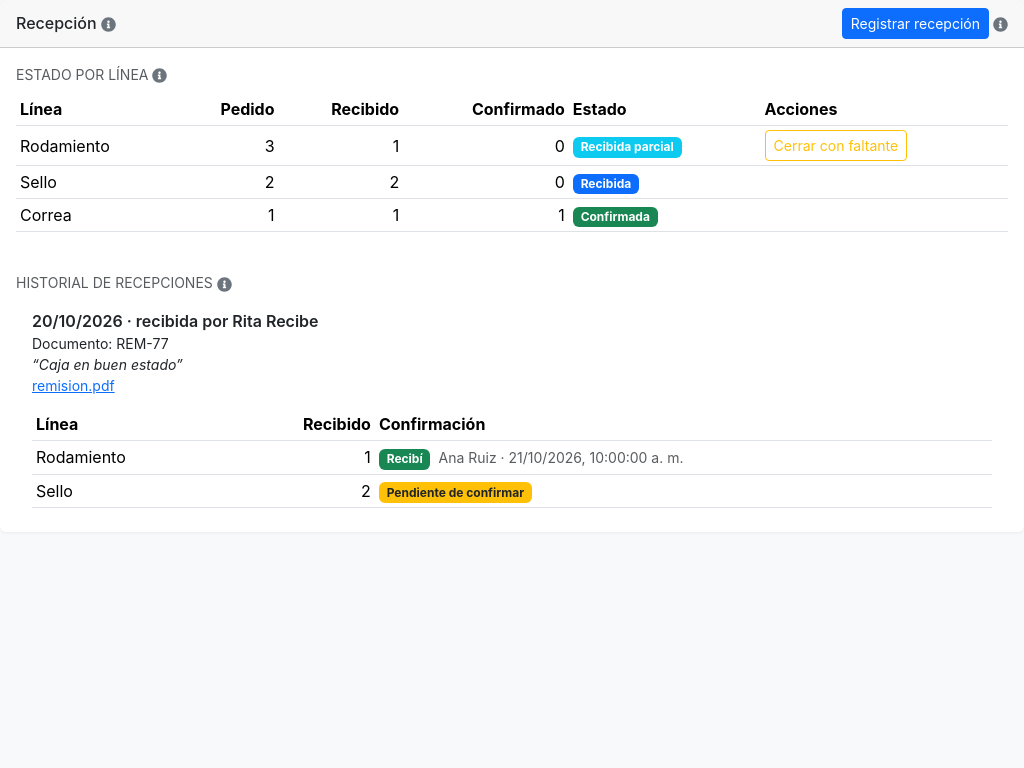
RegistrarRecepcionModal (through the panel) › shows the server answer CANTIDAD_EXCEDE in Spanish
Click the button "Registrar recepción" at (915, 24), box [842,8,989,39]
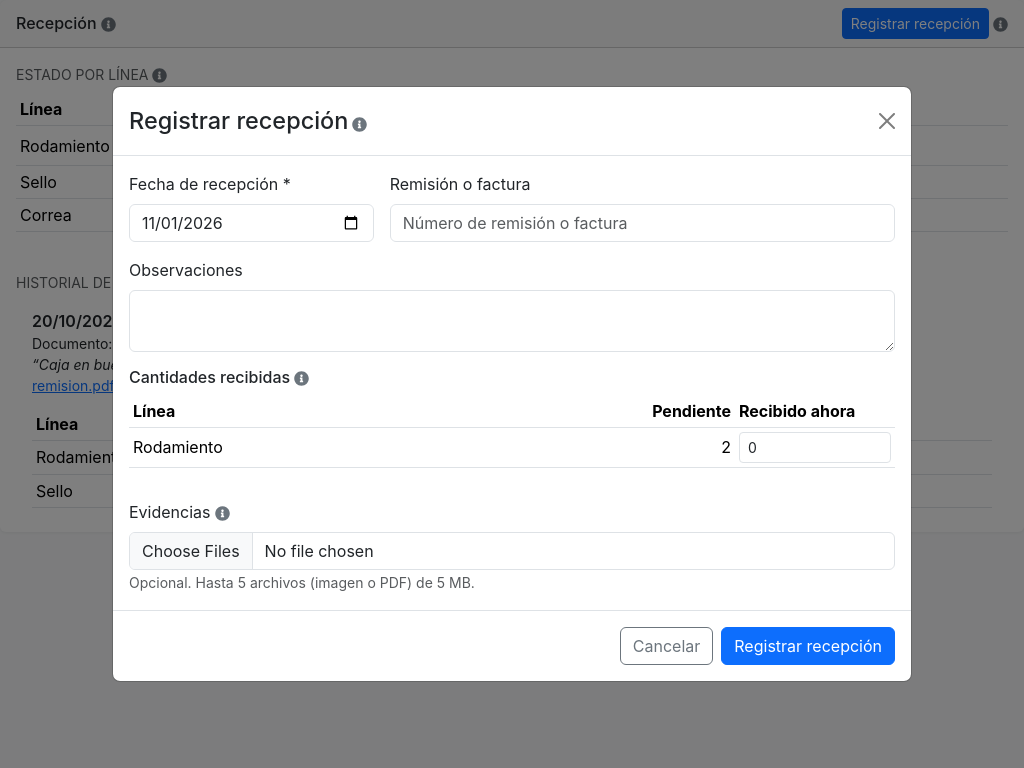
Replace the text in the number field named "Cantidad recibida de Rodamiento" with "1" at (815, 447), box [739,432,891,463]
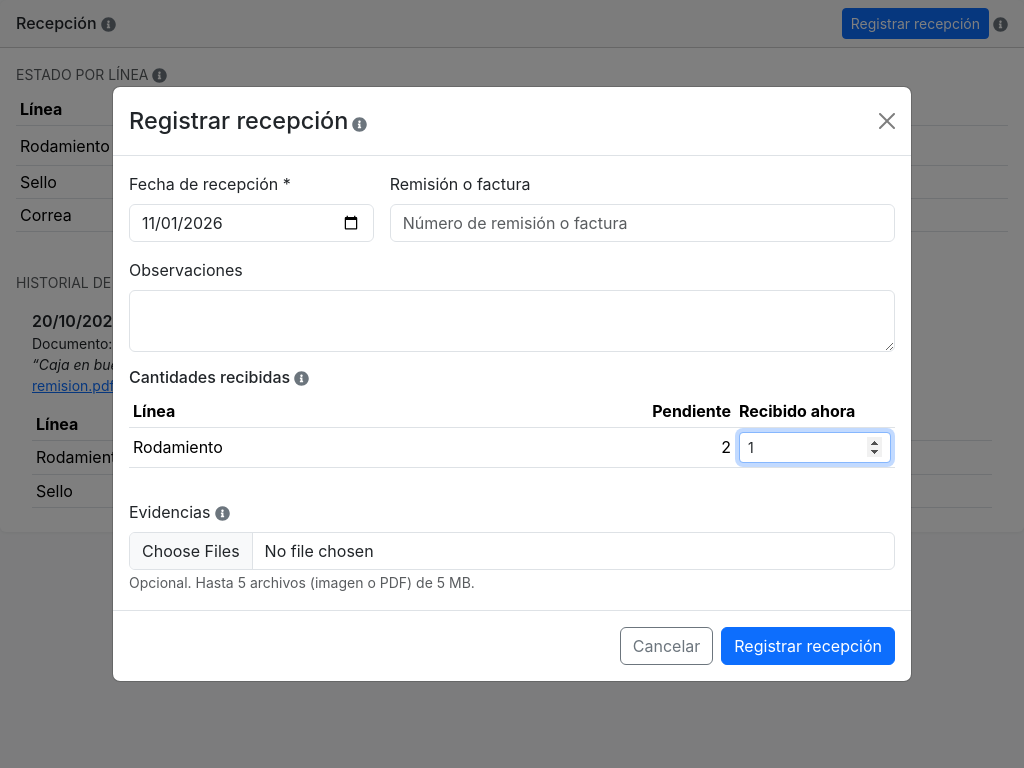
Click the button "Registrar recepción" at (808, 646), box [721,627,895,665]
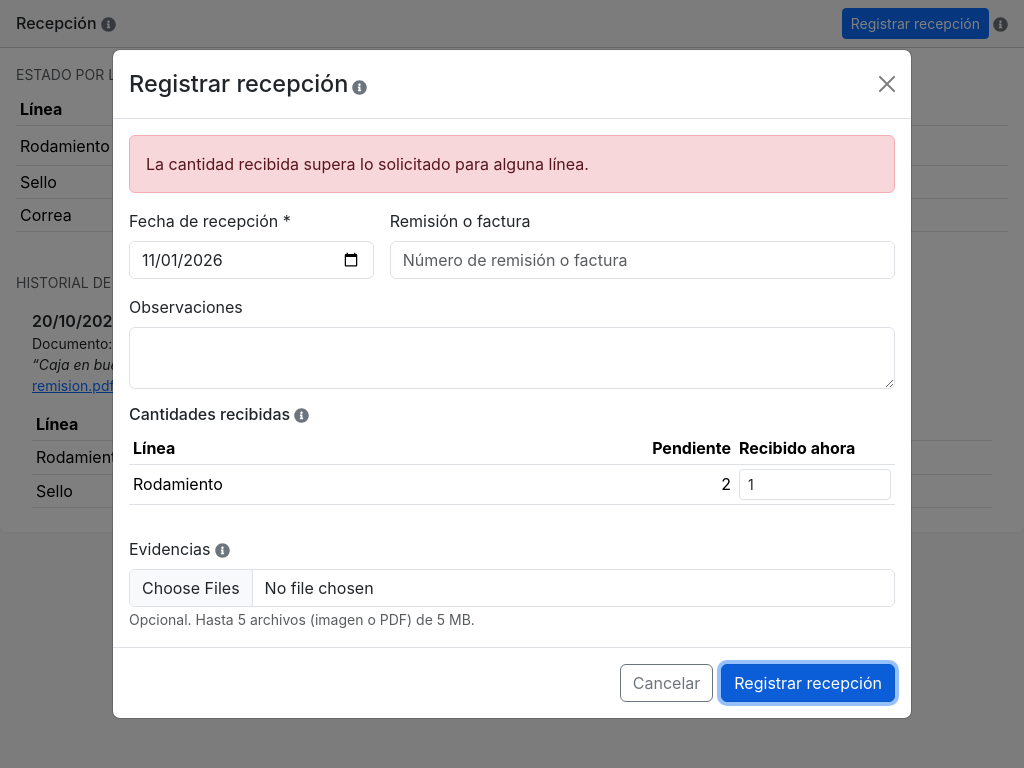
Now the message shows "La cantidad recibida supera lo solicitado", box [146,154,589,174]
